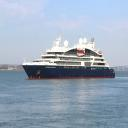cruises: (22, 35, 117, 82)
